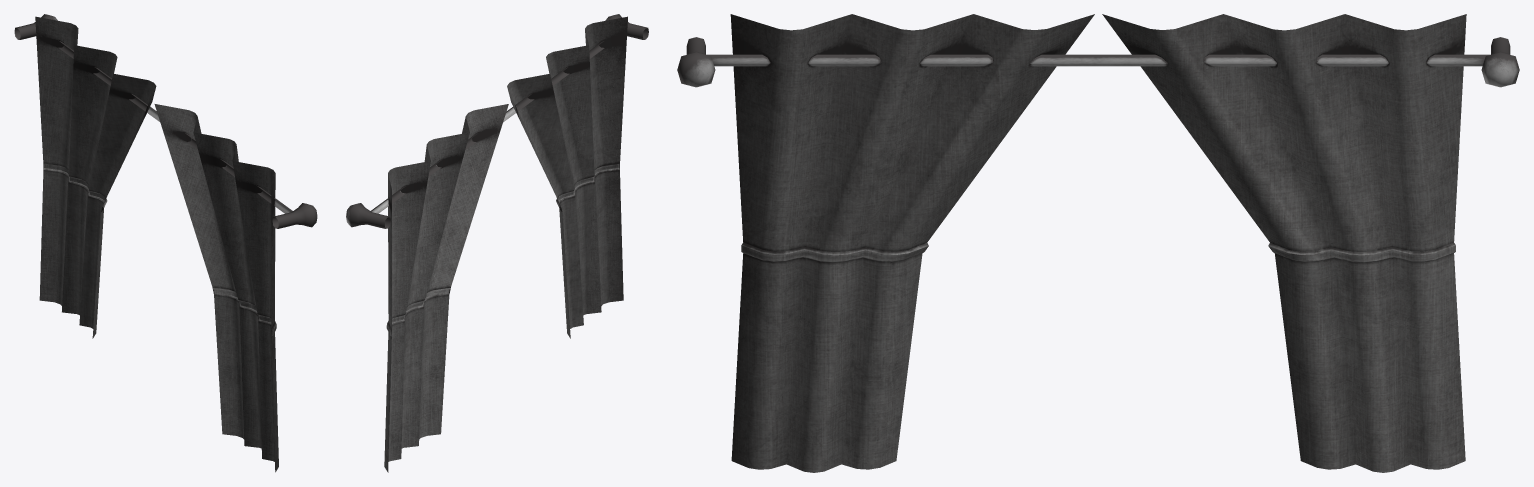
File: curtain.fbx
The picture shows the model from 3 angles, left to right: view 1: azimuth 30°, elevation 25°; view 2: azimuth 150°, elevation 25°; view 3: azimuth 270°, elevation 25°; orthographic projection. The views are drawn at different scales.
Parts seen in each view (by area): view 1: curtain; view 2: curtain; view 3: curtain.
Part boxes in pixels (bbox=[...]): curtain: bbox=[14, 14, 317, 472]; curtain: bbox=[346, 14, 648, 472]; curtain: bbox=[677, 14, 1519, 472].
Bounding box in the file's own units: 0.2306 × 1.58 × 2.72.
